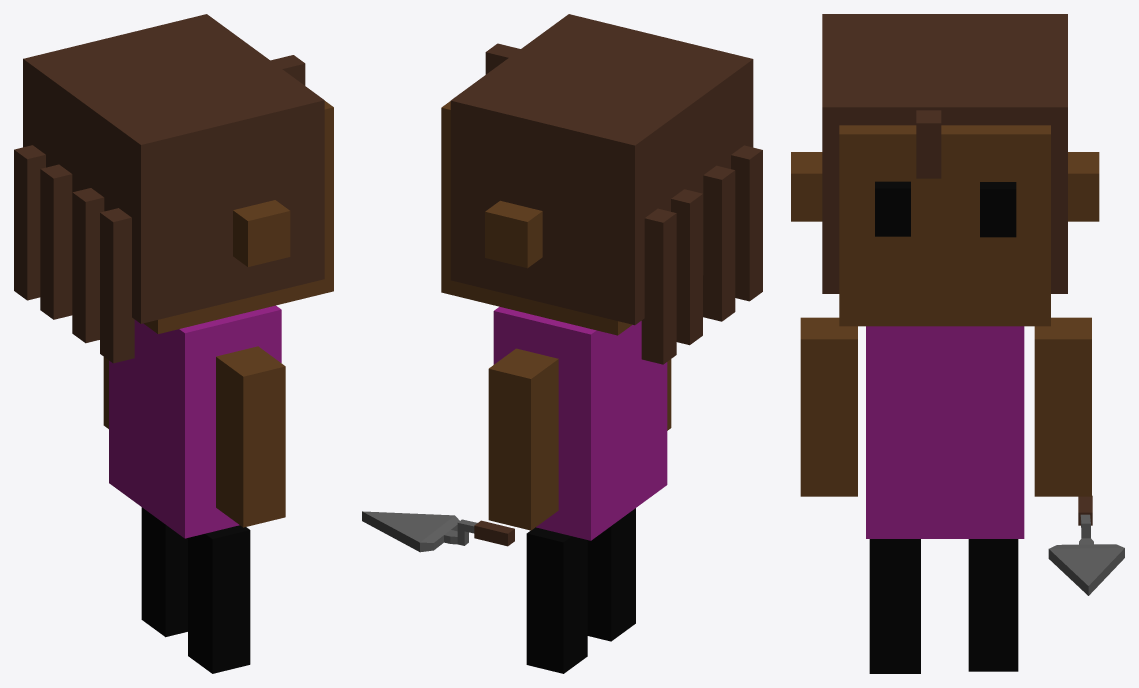
Rendered from Chara-F_maçonne.fbx.
The picture shows the model from 3 angles, left to right: view 1: azimuth 30°, elevation 25°; view 2: azimuth 150°, elevation 25°; view 3: azimuth 270°, elevation 25°; orthographic projection. The views are drawn at different scales.
Parts seen in each view (by area): view 1: Cube.105; view 2: Cube.105; view 3: Cube.105.
Part boxes in pixels (x1=…): Cube.105: x1=14, y1=14, x2=333, y2=673; Cube.105: x1=362, y1=14, x2=762, y2=673; Cube.105: x1=791, y1=14, x2=1124, y2=673.
Bounding box in the file's own units: 88.01 × 170 × 86.97.
